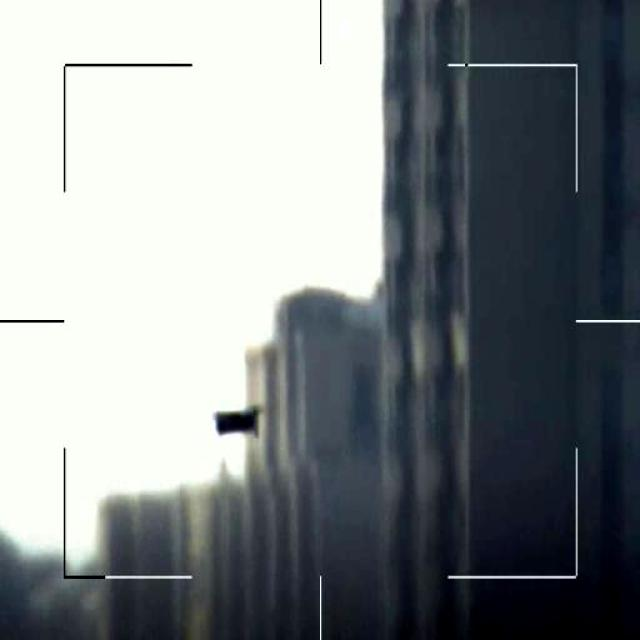bird: (220, 405, 270, 440)
